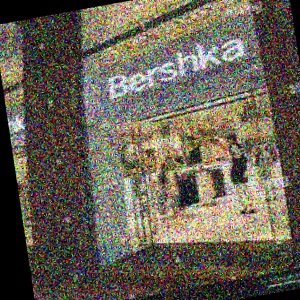bershka: (48, 30, 300, 117)
